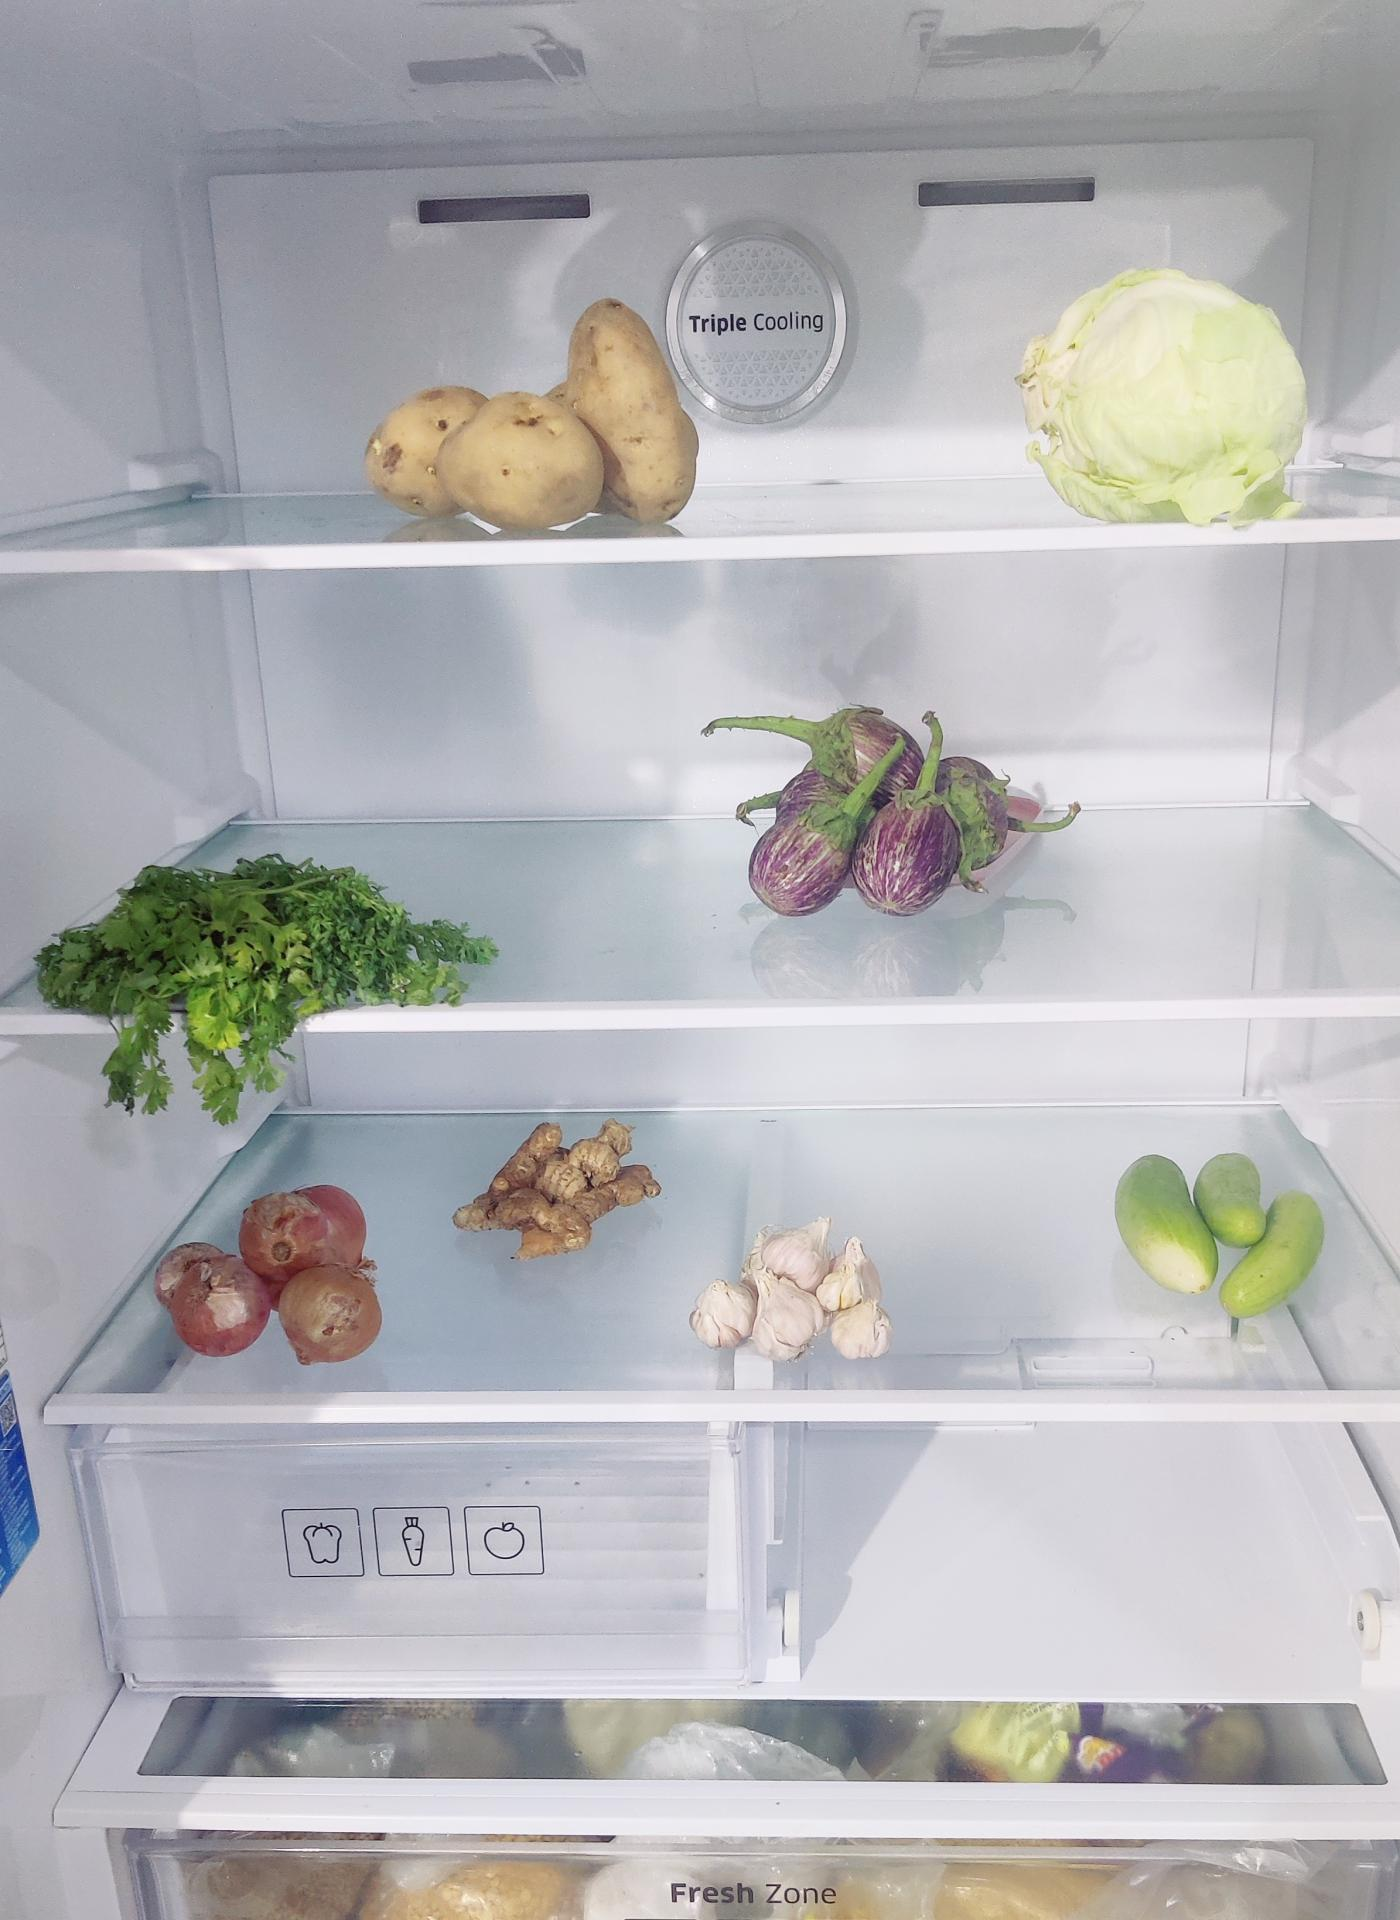brinjal: (728, 695, 1018, 900)
cabbage: (1027, 273, 1303, 535)
coriander: (55, 857, 514, 1045)
cucumber: (1109, 1128, 1327, 1315)
garlic: (701, 1215, 881, 1379)
ginger: (476, 1117, 702, 1255)
onion: (165, 1184, 379, 1360)
potato: (359, 297, 698, 523)
